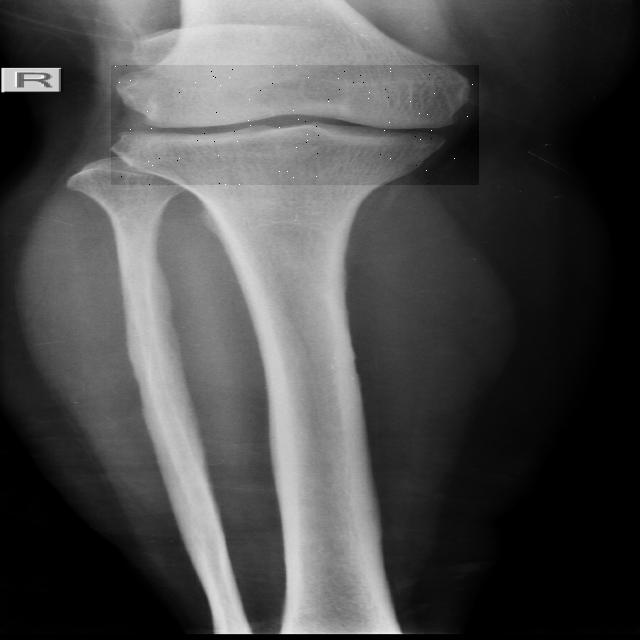normal: (111, 65, 479, 185)
